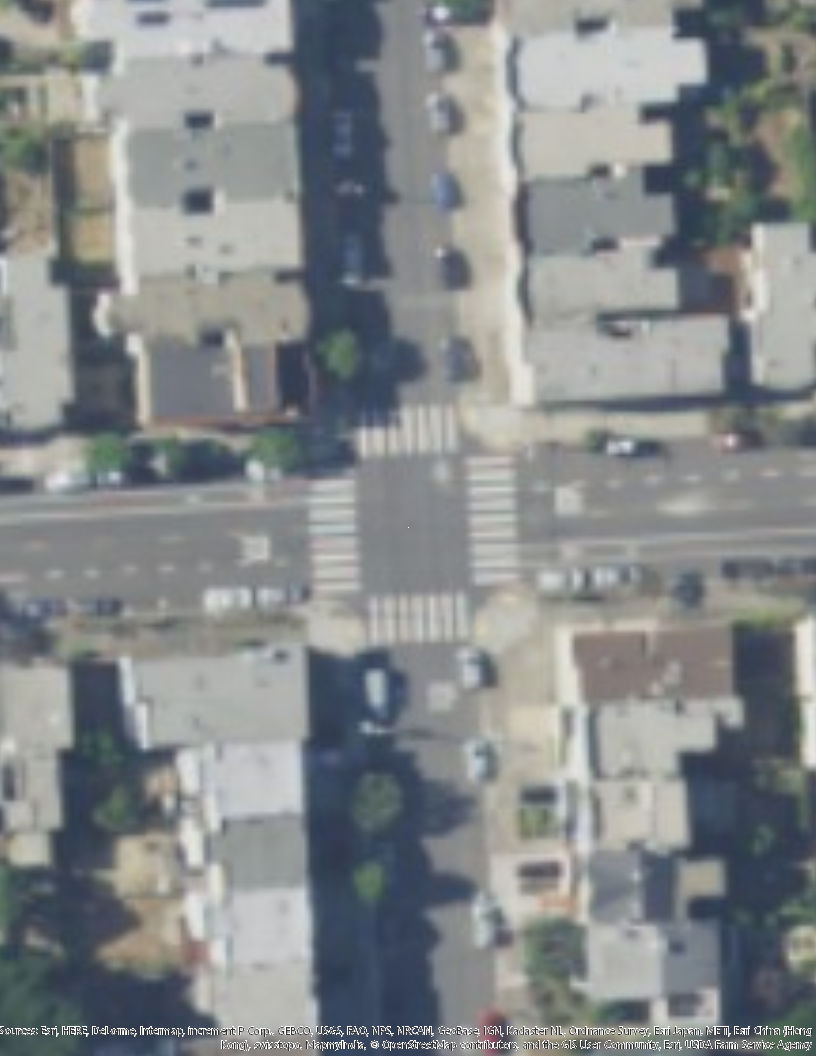zebracross: (306, 463, 361, 588), (466, 453, 516, 584), (348, 403, 464, 452), (364, 589, 468, 642)
